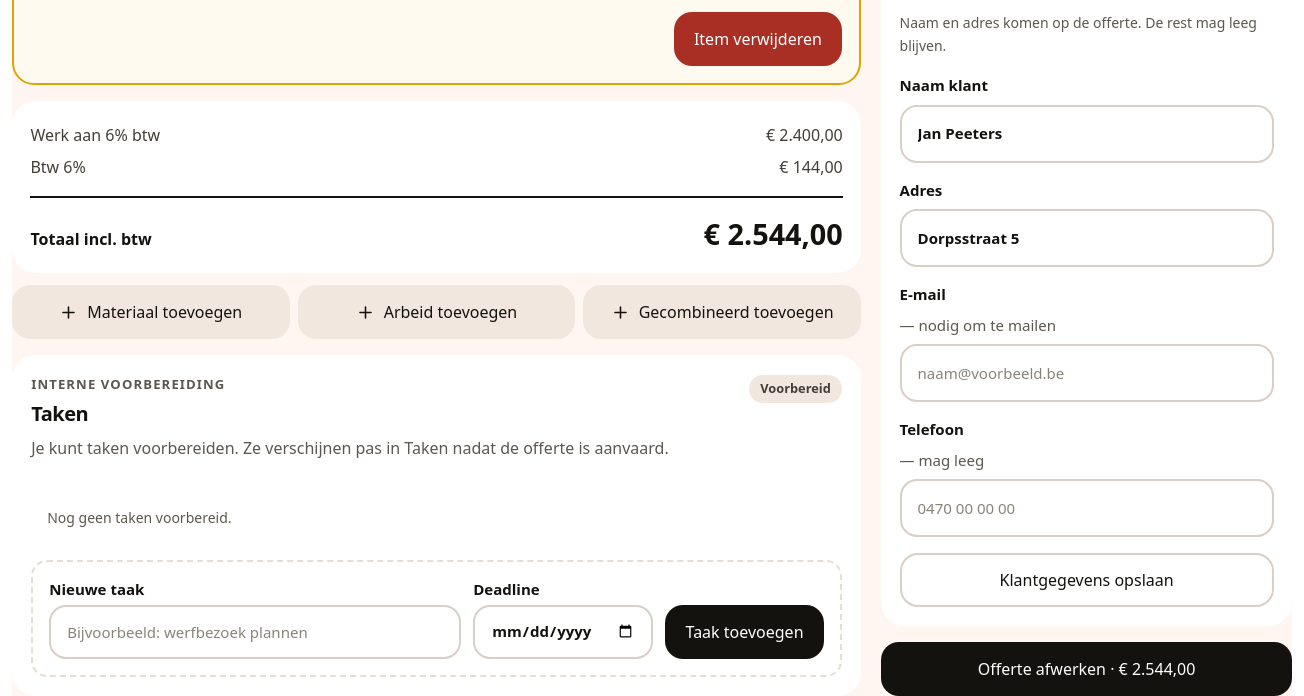
Test case: QuoteEditor › shows the server blockers when finalizing is rejected
The width and height of the screenshot is (1304, 696).
(page scrolled)
What coordinates should you click on to do the following:
click the button "Offerte afwerken · € 2.544,00"
I would click on:
 (1087, 669)
Its box is [881,642,1292,695].
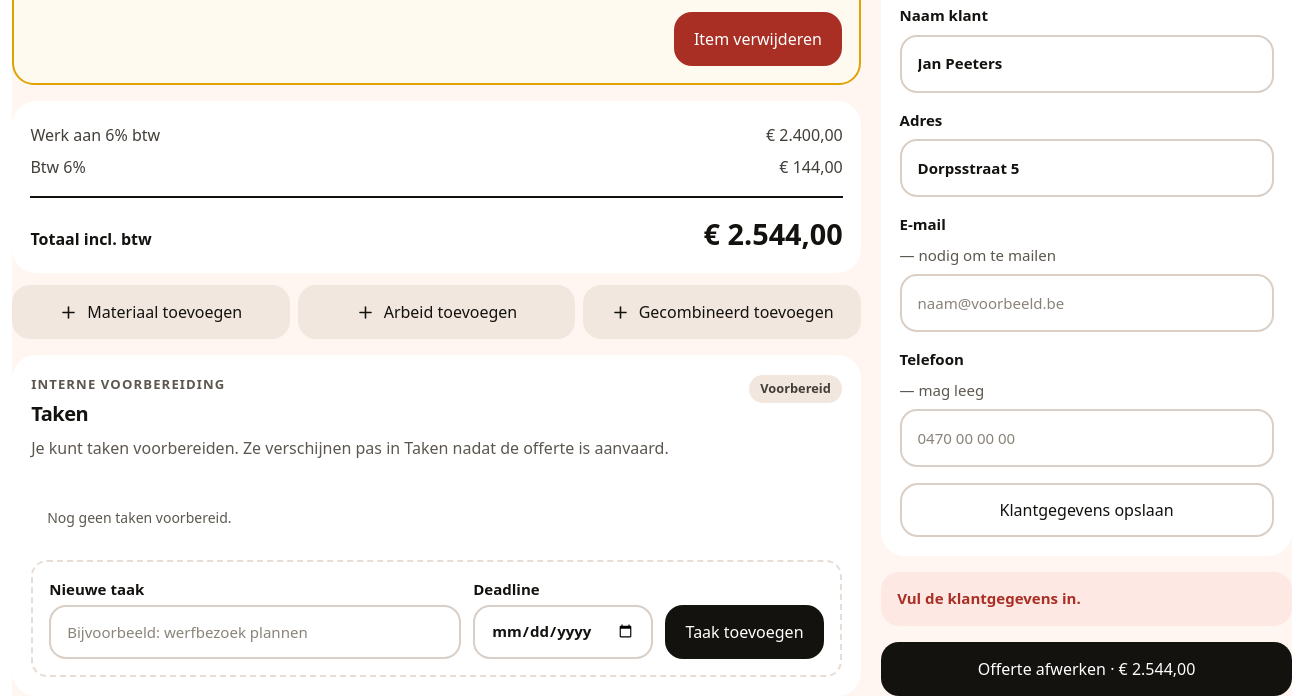
Check: the message reads "Vul de klantgegevens in.", box [897,588,1081,608]
